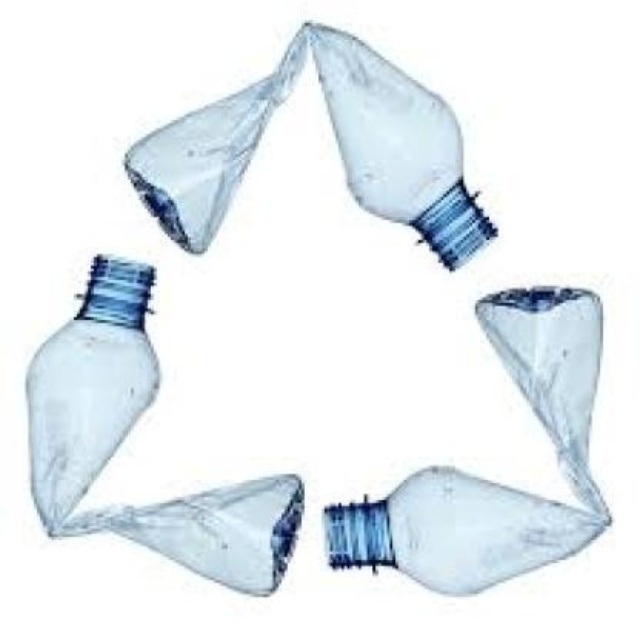trash: (26, 255, 303, 594), (125, 23, 495, 269), (325, 286, 608, 592)
